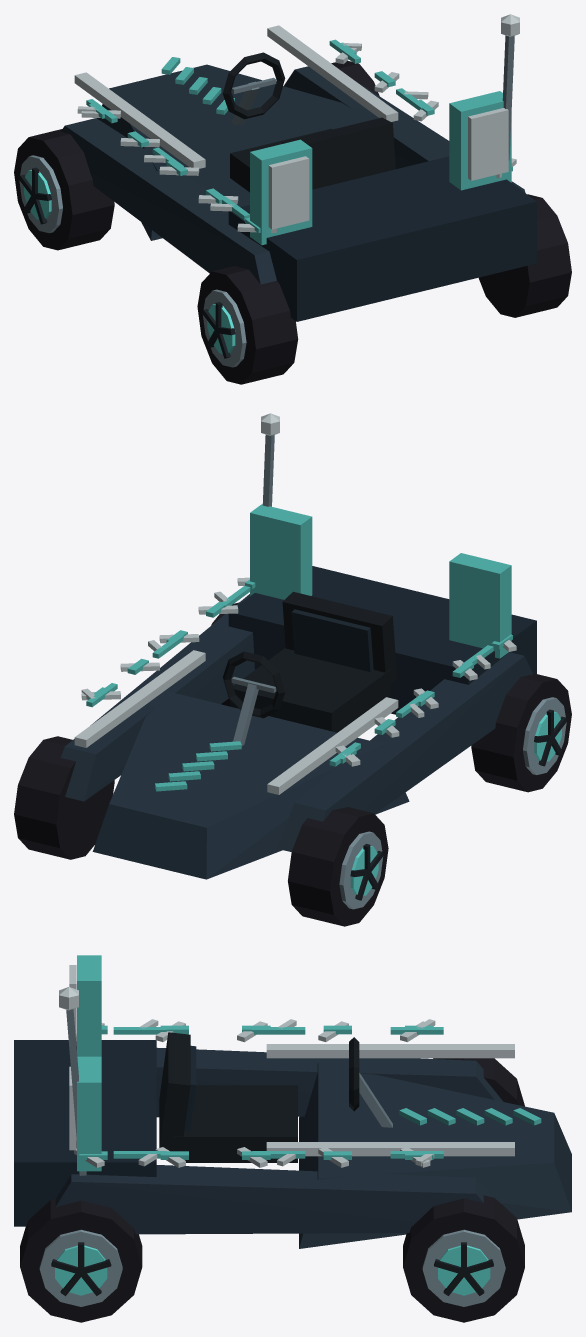
File: kart.glb
3 views of the same model, one above another, from view 1: azimuth 30°, elevation 25°; view 2: azimuth 150°, elevation 25°; view 3: azimuth 270°, elevation 25° (orthographic). The views are drawn at different scales.
Parts seen in each view (by area): view 1: identity-suture-suture-split-frame-and-anchor-relay, wheel-rear-left, wheel-front-left, identity-suture-driver-cockpit, wheel-rear-right, identity-suture-motif-suture, identity-suture-motif-runes, identity-suture-motif-antenna, wheel-front-right; view 2: identity-suture-suture-split-frame-and-anchor-relay, identity-suture-driver-cockpit, wheel-front-left, wheel-rear-left, wheel-front-right, identity-suture-motif-suture, identity-suture-motif-runes, identity-suture-motif-antenna; view 3: identity-suture-suture-split-frame-and-anchor-relay, identity-suture-driver-cockpit, wheel-front-right, wheel-rear-right, identity-suture-motif-suture, identity-suture-motif-runes, wheel-front-left, identity-suture-motif-antenna.
Part boxes in pixels (x1=…): identity-suture-suture-split-frame-and-anchor-relay: x1=61, y1=25, x2=536, y2=321; wheel-rear-left: x1=197, y1=266, x2=298, y2=384; wheel-front-left: x1=14, y1=129, x2=114, y2=250; identity-suture-driver-cockpit: x1=222, y1=52, x2=395, y2=192; wheel-rear-right: x1=478, y1=194, x2=571, y2=317; identity-suture-motif-suture: x1=81, y1=42, x2=516, y2=233; identity-suture-motif-runes: x1=77, y1=39, x2=428, y2=220; identity-suture-motif-antenna: x1=501, y1=14, x2=519, y2=160; wheel-front-right: x1=331, y1=61, x2=379, y2=95; identity-suture-suture-split-frame-and-anchor-relay: x1=60, y1=504, x2=536, y2=879; identity-suture-driver-cockpit: x1=222, y1=591, x2=396, y2=746; wheel-front-left: x1=288, y1=807, x2=388, y2=926; wheel-rear-left: x1=471, y1=673, x2=571, y2=792; wheel-front-right: x1=14, y1=736, x2=114, y2=859; identity-suture-motif-suture: x1=81, y1=577, x2=516, y2=765; identity-suture-motif-runes: x1=81, y1=586, x2=493, y2=766; identity-suture-motif-antenna: x1=261, y1=413, x2=279, y2=506; identity-suture-suture-split-frame-and-anchor-relay: x1=14, y1=955, x2=571, y2=1248; identity-suture-driver-cockpit: x1=159, y1=1032, x2=392, y2=1162; wheel-front-right: x1=403, y1=1195, x2=524, y2=1322; wheel-rear-right: x1=20, y1=1199, x2=142, y2=1322; identity-suture-motif-suture: x1=74, y1=1021, x2=433, y2=1167; identity-suture-motif-runes: x1=113, y1=1019, x2=443, y2=1166; wheel-front-left: x1=433, y1=1058, x2=524, y2=1106; identity-suture-motif-antenna: x1=59, y1=987, x2=86, y2=1175.
Bounding box in the file's own units: 1.99 × 1.72 × 2.74.
